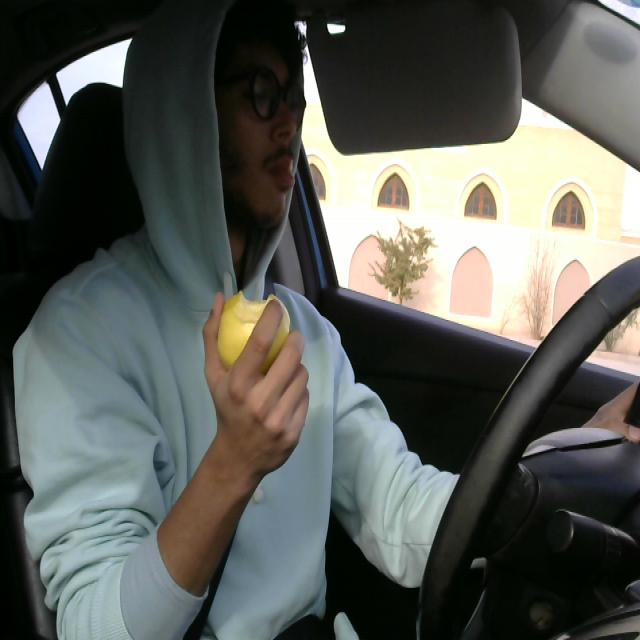eating: (214, 285, 291, 379)
